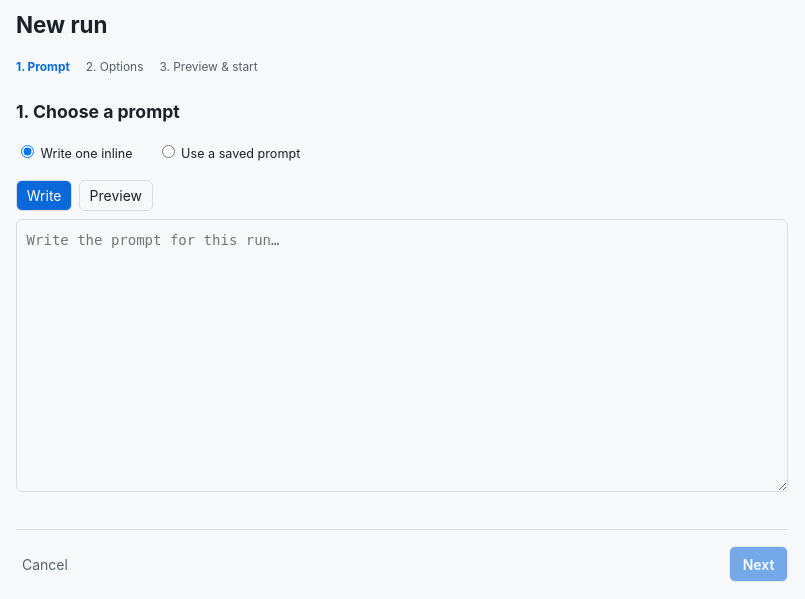
Test: NewRunWizard › prefills Options with the server defaults so the inputs show concrete numbers
Click the radio button labelled "Use a saved prompt" at (168, 151), box [162,145,175,158]
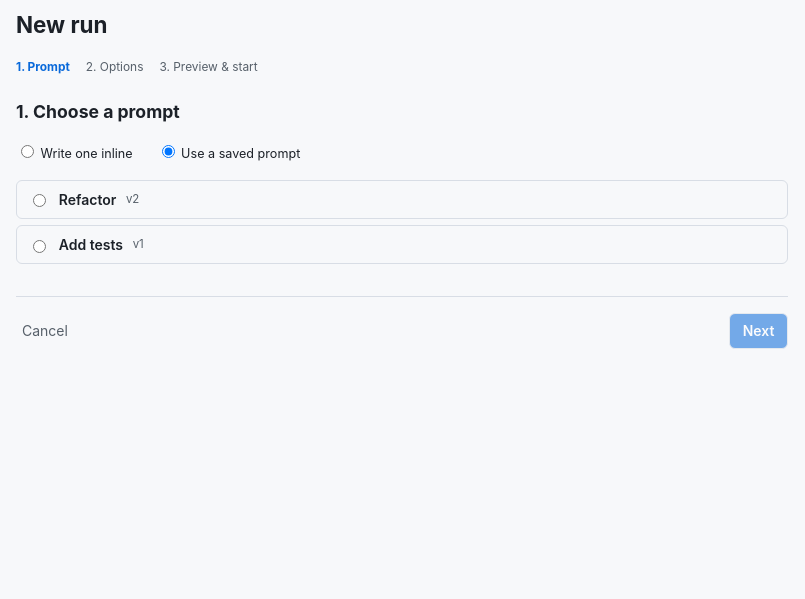
Click the radio button named "existing-prompt" at (40, 201), box [33,194,46,207]
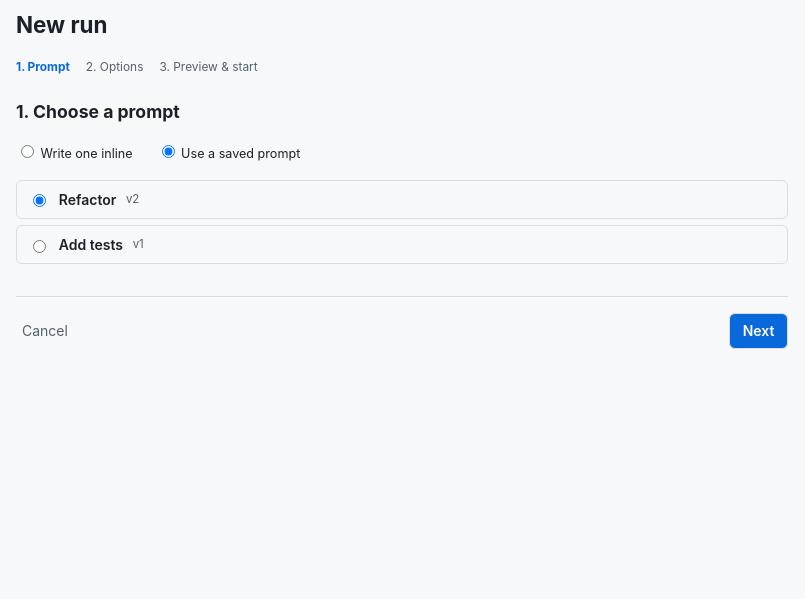
Click the button with test id "wizard-next" at (759, 331), box [729,313,788,349]
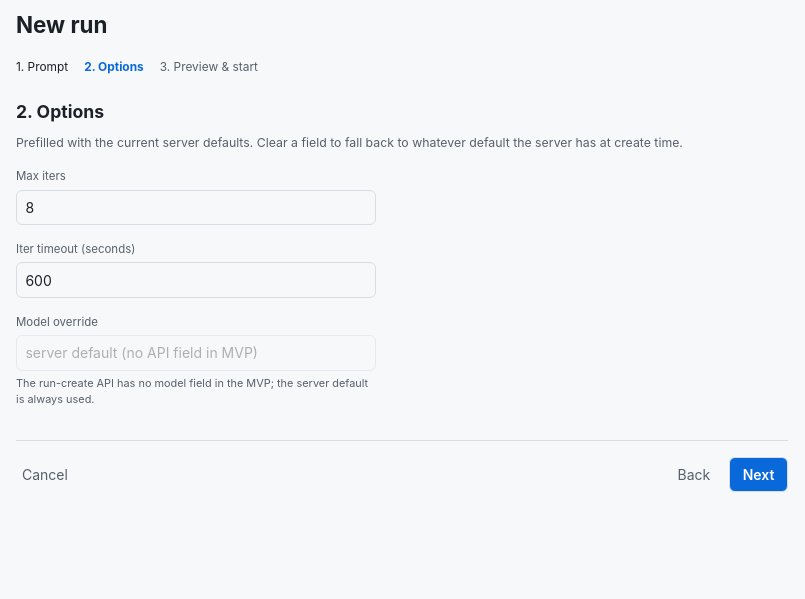
Expected: the number field named "max-iters" holds "8", [16,190,376,225]
Expected: the number field named "iter-timeout" holds "600", [16,262,376,298]
